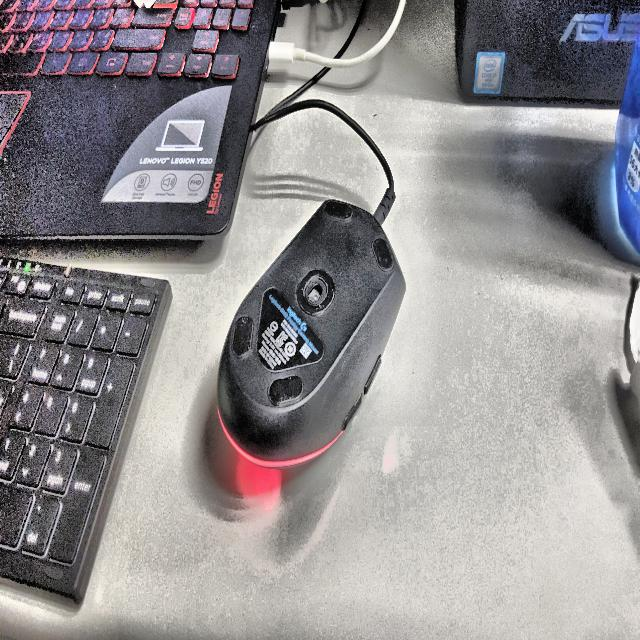Keyboard: (0, 259, 171, 602)
Laptop: (0, 0, 280, 238)
MOUSE: (217, 200, 405, 466)
